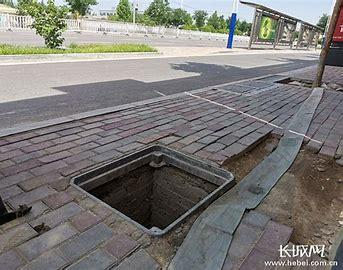wellcover: (72, 140, 233, 231)
